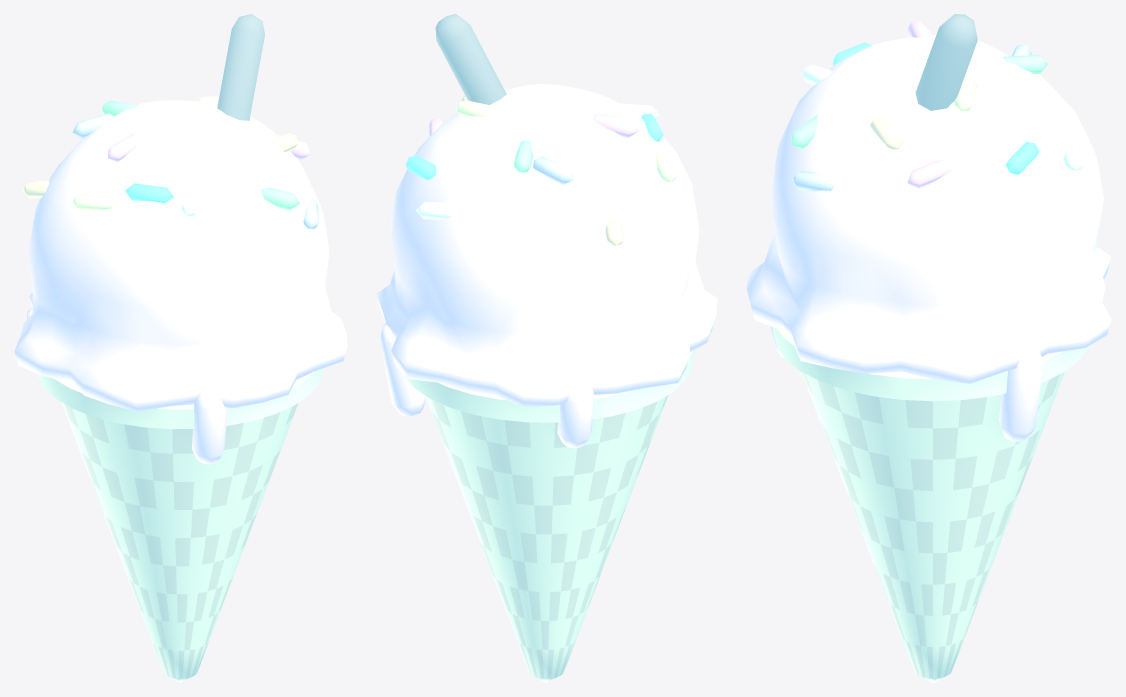
File: props__CandyCone.glb
3 renders of one model, left to right at view 1: azimuth 30°, elevation 25°; view 2: azimuth 150°, elevation 25°; view 3: azimuth 270°, elevation 25°, orthographic. The views are drawn at different scales.
Visible parts, largest first — view 1: CandyCone; view 2: CandyCone; view 3: CandyCone.
Boxes of the visible parts, <box> form: CandyCone: <box>14,14,347,682</box>; CandyCone: <box>376,14,717,682</box>; CandyCone: <box>746,14,1111,682</box>.
Size of the model in its own units: 6 by 12.3 by 5.74.
